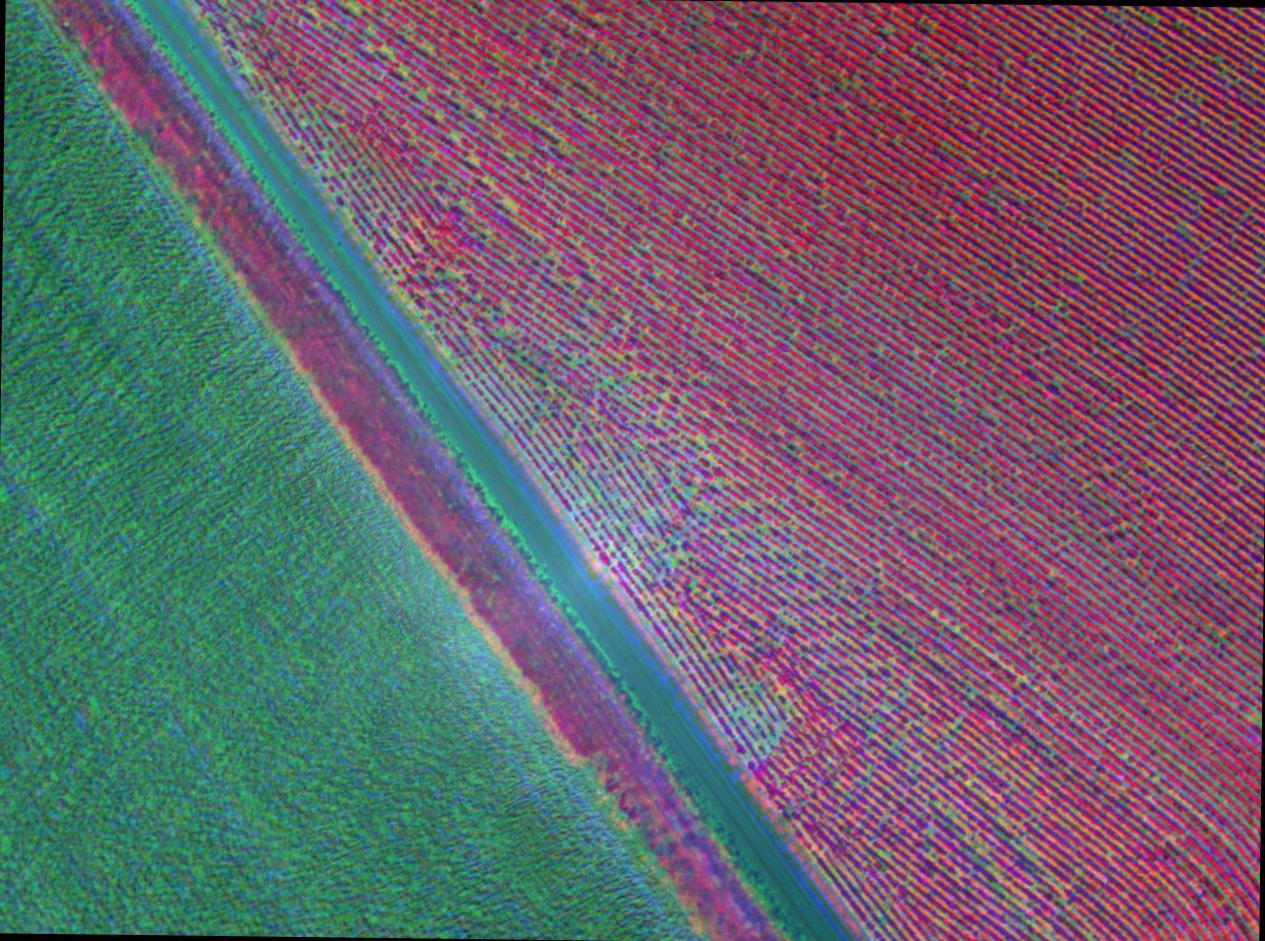dc: (446, 347, 450, 353), (502, 308, 506, 312), (622, 316, 625, 320), (497, 333, 500, 337), (885, 30, 888, 33), (798, 297, 800, 301)
